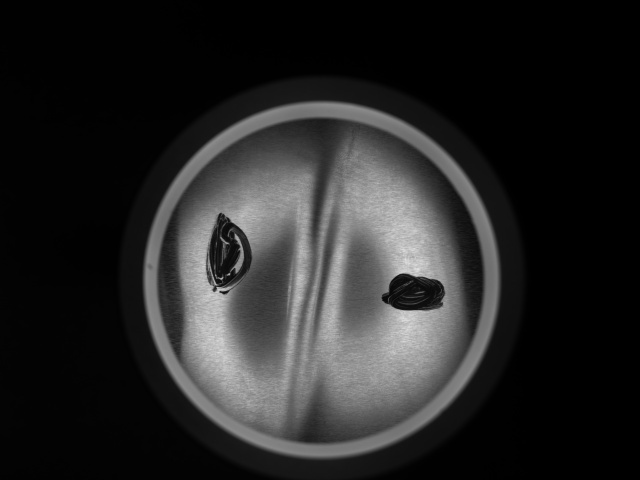zang_wu: (205, 210, 256, 296), (380, 272, 450, 312)
zhe_zhou: (209, 139, 434, 416)
